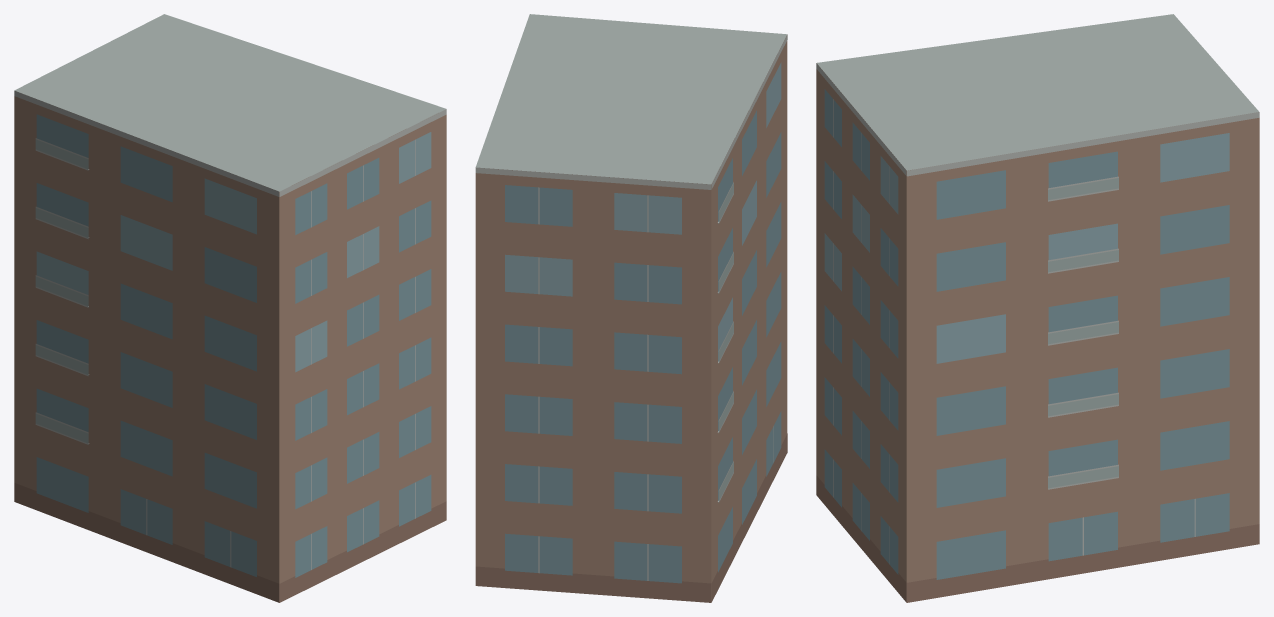
Rendered from survey-upis-32888766.glb.
The picture shows the model from 3 angles, left to right: view 1: azimuth 30°, elevation 25°; view 2: azimuth 150°, elevation 25°; view 3: azimuth 270°, elevation 25°; orthographic projection. The views are drawn at different scales.
Visible parts, largest first — view 1: survey-upis-32888766.tmp; view 2: survey-upis-32888766.tmp; view 3: survey-upis-32888766.tmp.
Part boxes in pixels (x1,y1,x2,y2): survey-upis-32888766.tmp: (14, 14, 446, 602); survey-upis-32888766.tmp: (475, 14, 787, 602); survey-upis-32888766.tmp: (816, 14, 1259, 602).
Bounding box in the file's own units: 14.12 × 18.15 × 16.87.
